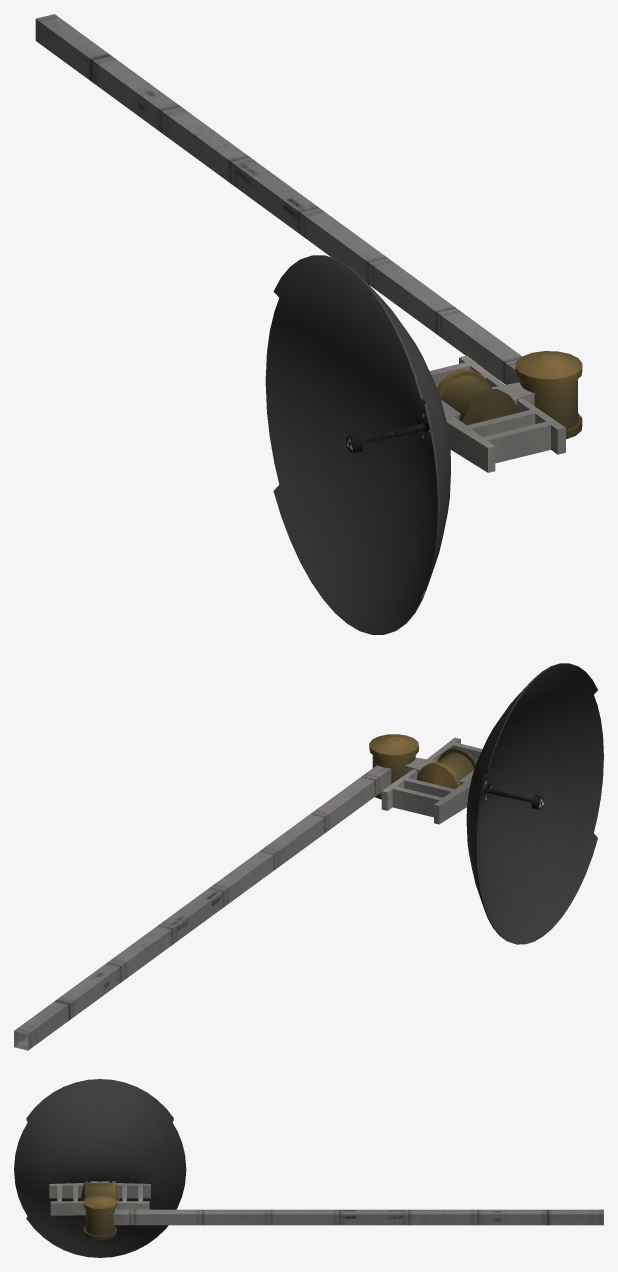
Rendered from hubble-antenna-near.glb.
3 renders of one model, top to bottom at view 1: azimuth 30°, elevation 25°; view 2: azimuth 150°, elevation 25°; view 3: azimuth 270°, elevation 25°, orthographic. The views are drawn at different scales.
Parts seen in each view (by area): view 1: antenna-near; view 2: antenna-near; view 3: antenna-near.
Part boxes in pixels (x1,y1,x2,y2): antenna-near: (35,14,582,634); antenna-near: (14,663,603,1050); antenna-near: (14,1079,603,1257).
Size of the model in its own units: 0.8849 by 1.31 by 3.92.
Materials: 1 (1 with a texture image).
